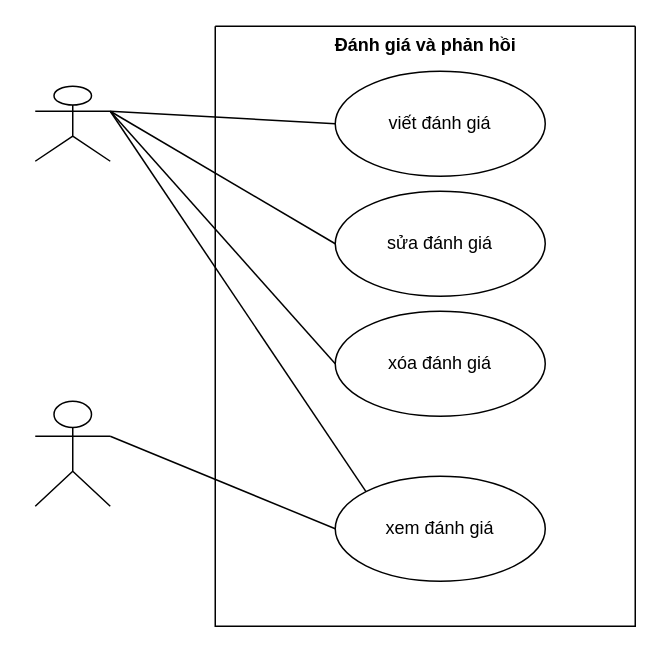
This 662x653 diagram has some shape labels left out. Here are the shapes that lost their labels. From the top down, the centre of each, then its label:
the point at 72,123: khách hàng
the point at 72,453: nhân viên
